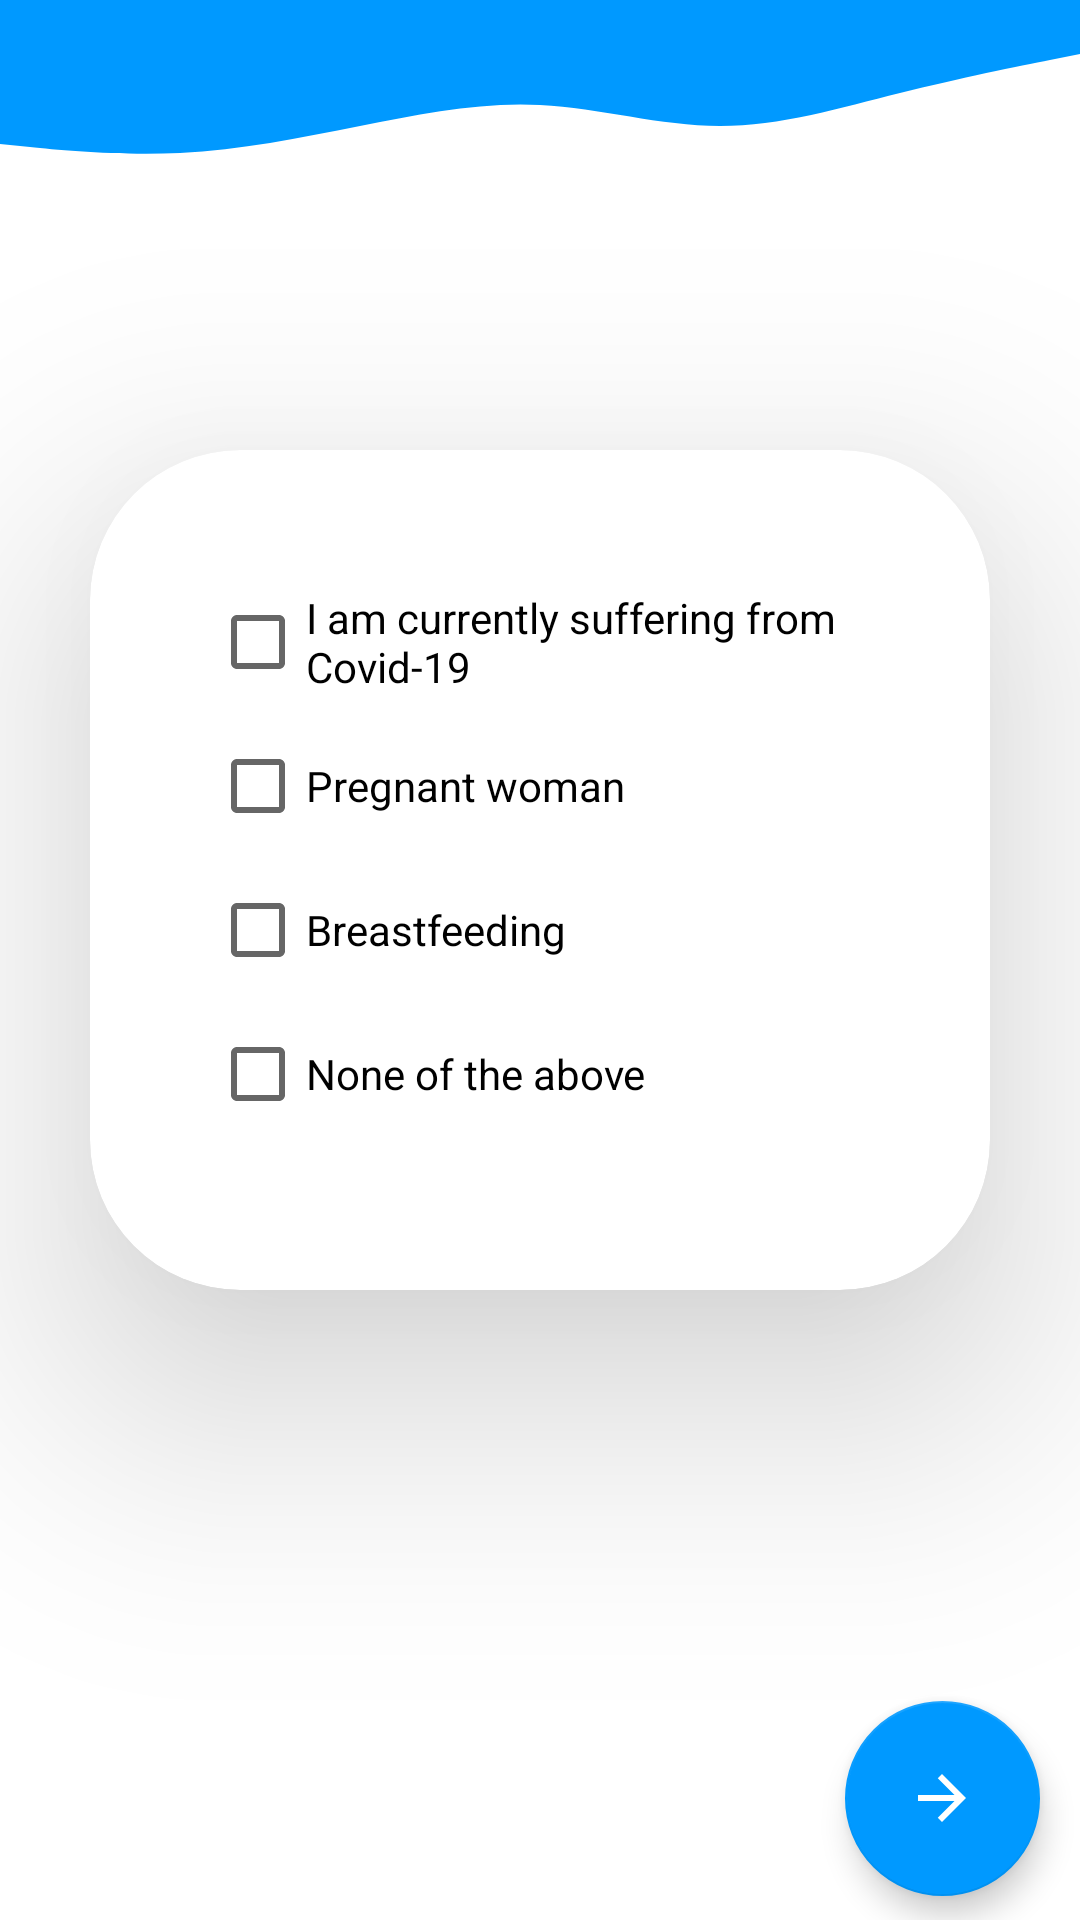

Icon bounding boxes for this 1080px x 1920px phone screenshot, format bbox(x1, y1, x2, y2):
arrow forward: bbox(845, 1701, 1040, 1896)
